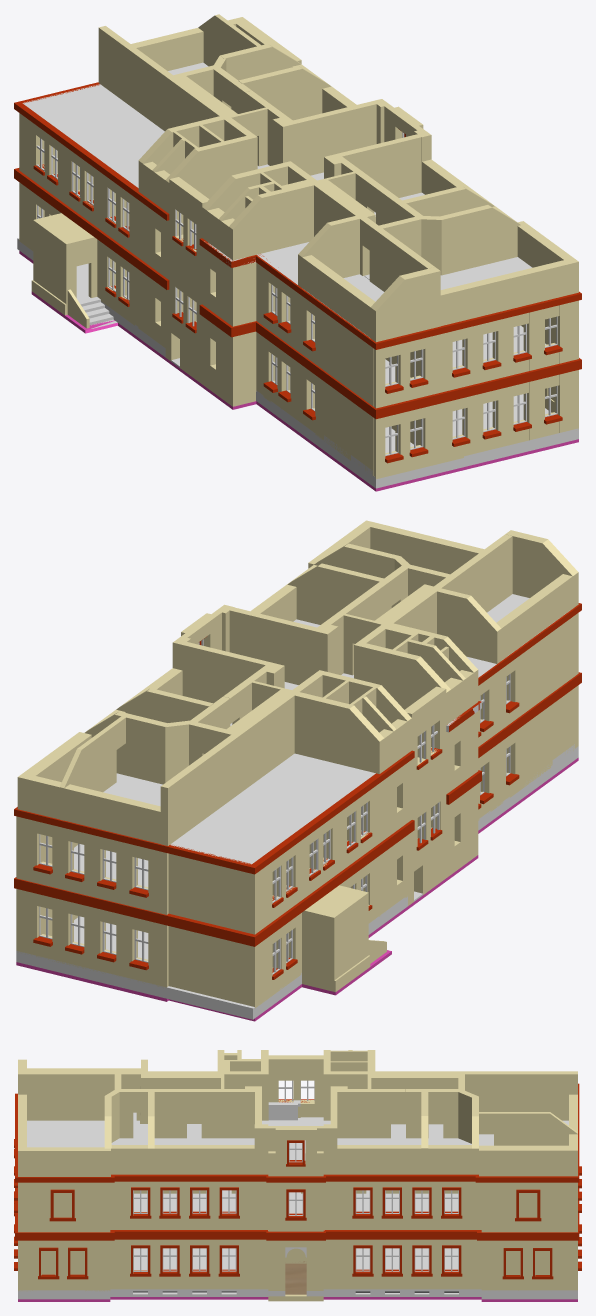
File: horska59.gltf
The picture shows the model from 3 angles, top to bottom: view 1: azimuth 30°, elevation 25°; view 2: azimuth 150°, elevation 25°; view 3: azimuth 270°, elevation 25°; orthographic projection. The views are drawn at different scales.
Visible parts, largest first — view 1: 2.patro-patro-2._Patro, Prizemi-patro-Přízemí, 1.patro-patro-1._Patro; view 2: 2.patro-patro-2._Patro, Prizemi-patro-Přízemí, 1.patro-patro-1._Patro; view 3: 2.patro-patro-2._Patro, 1.patro-patro-1._Patro, Prizemi-patro-Přízemí.
Part boxes in pixels (x1,y1,x2,y2): 2.patro-patro-2._Patro: [14, 14, 581, 349]; Prizemi-patro-Přízemí: [17, 182, 578, 491]; 1.patro-patro-1._Patro: [14, 113, 581, 419]; 2.patro-patro-2._Patro: [14, 520, 581, 874]; Prizemi-patro-Přízemí: [16, 685, 578, 1021]; 1.patro-patro-1._Patro: [14, 613, 581, 946]; 2.patro-patro-2._Patro: [15, 1050, 579, 1182]; 1.patro-patro-1._Patro: [14, 1055, 581, 1240]; Prizemi-patro-Přízemí: [14, 1200, 581, 1301].
Bounding box in the file's own units: 355 × 268 × 800.
Materials: 16 (11 with a texture image).
